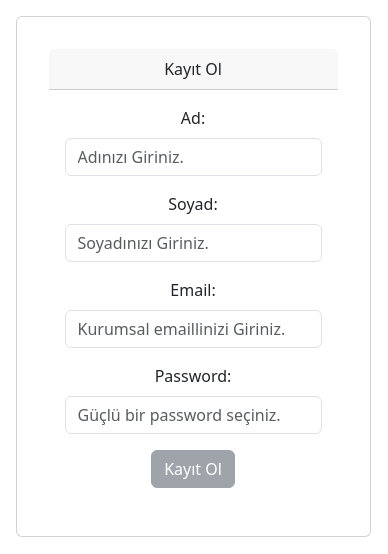
Test case: Form Page › Form inputs validated › Button enabled for validated inputs
Type "bahadır" into the field with test id "ad-input".
click(194, 157); type("bahadır")  # box x1=65 y1=138 x2=322 y2=176
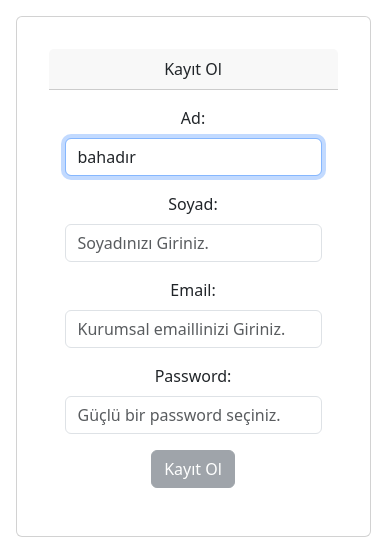
Type "uysal" into the field with test id "soyad-input".
click(194, 243); type("uysal")  # box x1=65 y1=224 x2=322 y2=262
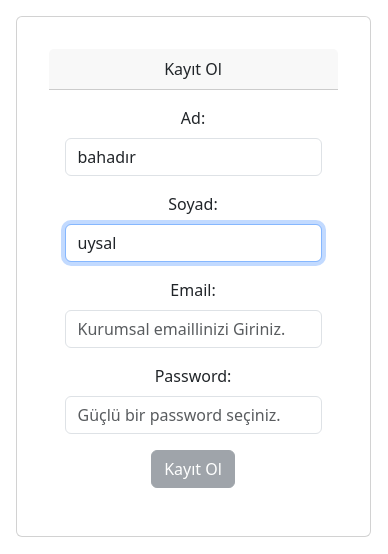
Type "emre@wit.com.tr" into the field with test id "email-input".
click(194, 329); type("emre@wit.com.tr")  # box x1=65 y1=310 x2=322 y2=348
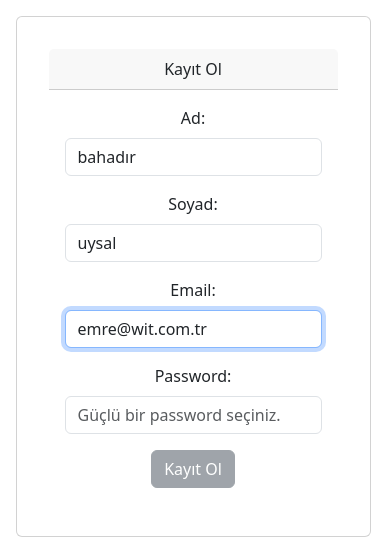
Type "1234Aa**" into the password field with test id "password-input".
click(194, 415); type("1234Aa**")  # box x1=65 y1=396 x2=322 y2=434
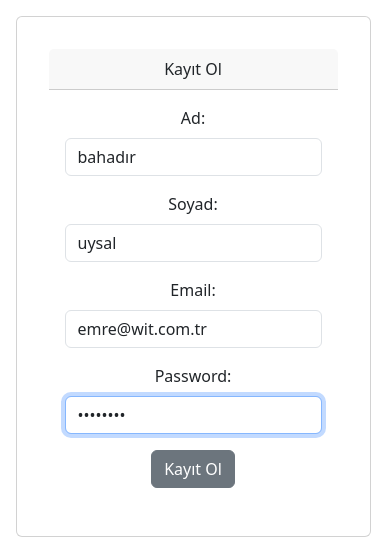
Expected: the button with test id "submit-button" is enabled, x1=151 y1=450 x2=235 y2=488
